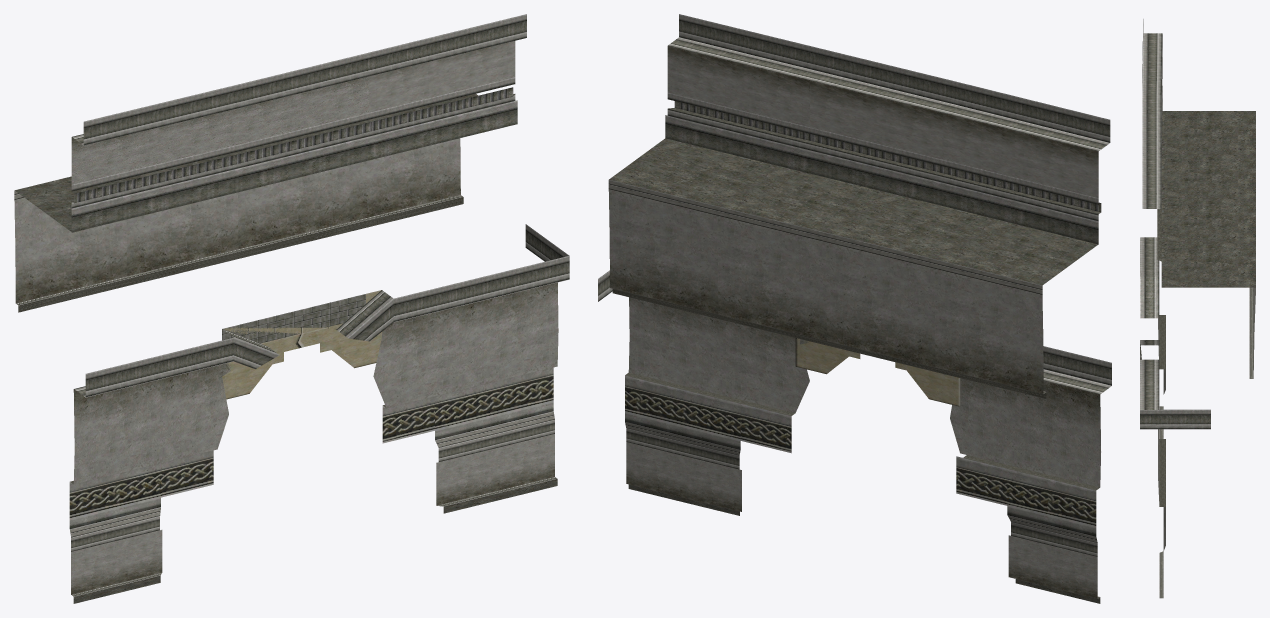
Rendered from DWARF_PALACE_MAINHALL_WALL02A.fbx.
3 renders of one model, left to right at view 1: azimuth 30°, elevation 25°; view 2: azimuth 150°, elevation 25°; view 3: azimuth 270°, elevation 25°, orthographic. The views are drawn at different scales.
Visible parts, largest first — view 1: DWARF_PALACE_MAINHALL_WALL02A; view 2: DWARF_PALACE_MAINHALL_WALL02A; view 3: DWARF_PALACE_MAINHALL_WALL02A.
Boxes of the visible parts, x1,y1,x2,y2 form: DWARF_PALACE_MAINHALL_WALL02A: (14, 14, 569, 603); DWARF_PALACE_MAINHALL_WALL02A: (598, 14, 1111, 603); DWARF_PALACE_MAINHALL_WALL02A: (1140, 19, 1255, 598).
Bounding box in the file's own units: 212094 × 205000 × 54001.
10 materials, 10 textured.
